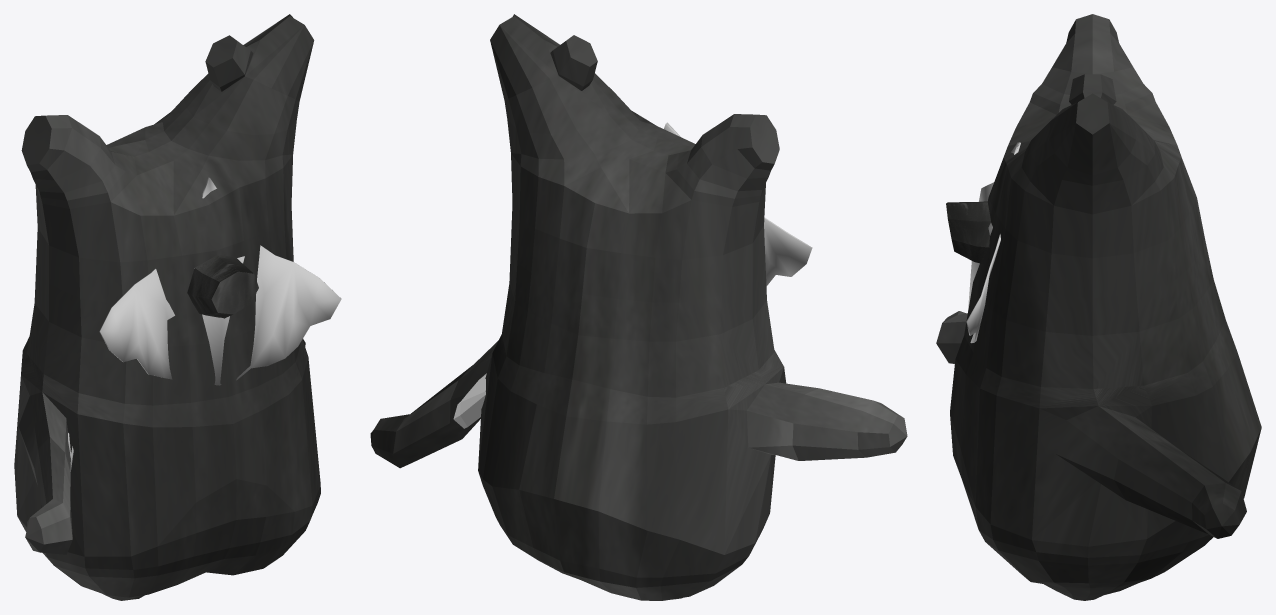
File: frame_0049.obj
3 renders of one model, left to right at view 1: azimuth 30°, elevation 25°; view 2: azimuth 150°, elevation 25°; view 3: azimuth 270°, elevation 25°, orthographic.
Parts seen in each view (by area): view 1: korok, leaf, nose; view 2: korok, leaf; view 3: korok, nose, leaf.
Boxes of the visible parts, x1=… form: korok: x1=14, y1=14, x2=320, y2=600; leaf: x1=99, y1=177, x2=341, y2=385; nose: x1=187, y1=255, x2=258, y2=318; korok: x1=370, y1=14, x2=907, y2=600; leaf: x1=664, y1=122, x2=812, y2=286; korok: x1=936, y1=14, x2=1261, y2=600; nose: x1=946, y1=201, x2=990, y2=263; leaf: x1=966, y1=142, x2=1020, y2=343.
Size of the model in its own units: 1.78 by 2.25 by 1.22.
